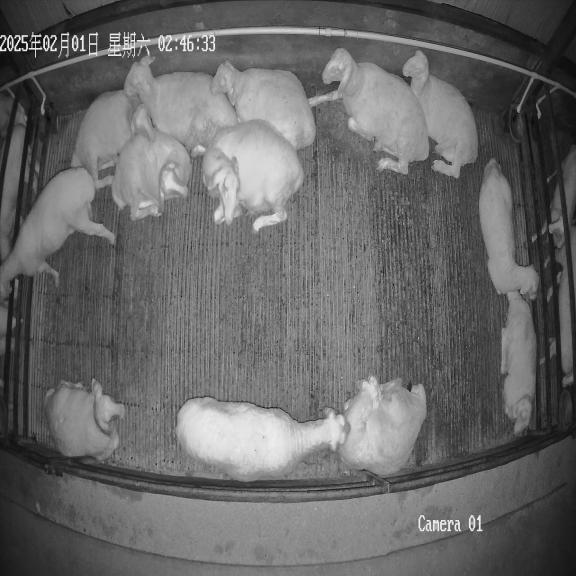lying: (308, 48, 429, 174), (202, 120, 304, 231), (124, 57, 237, 156), (403, 50, 478, 178), (210, 61, 316, 150), (337, 376, 427, 475), (479, 158, 539, 299), (71, 90, 154, 189), (45, 379, 125, 462), (112, 134, 187, 220), (500, 291, 536, 436), (130, 105, 191, 187)
stand: (0, 167, 115, 300), (176, 397, 348, 478)
